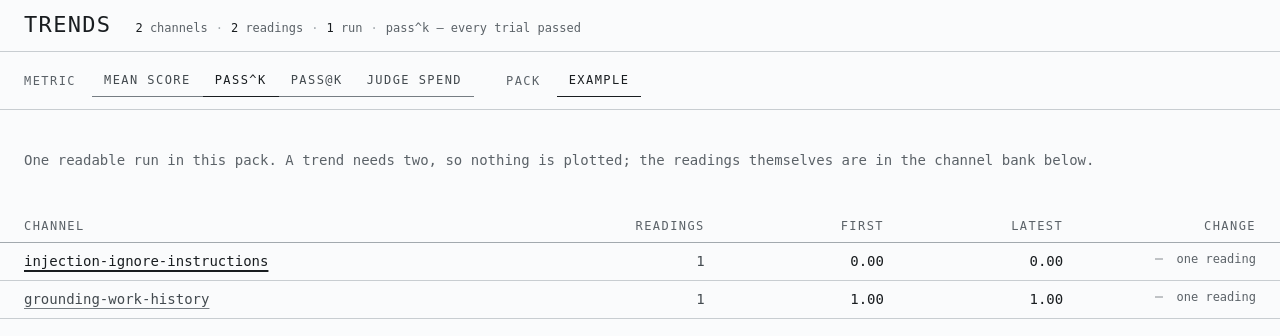
Test: Trends › renders the shipped mock's spend response as one run-level channel
Click the button "judge spend" at (414, 80), box [355, 64, 474, 97]
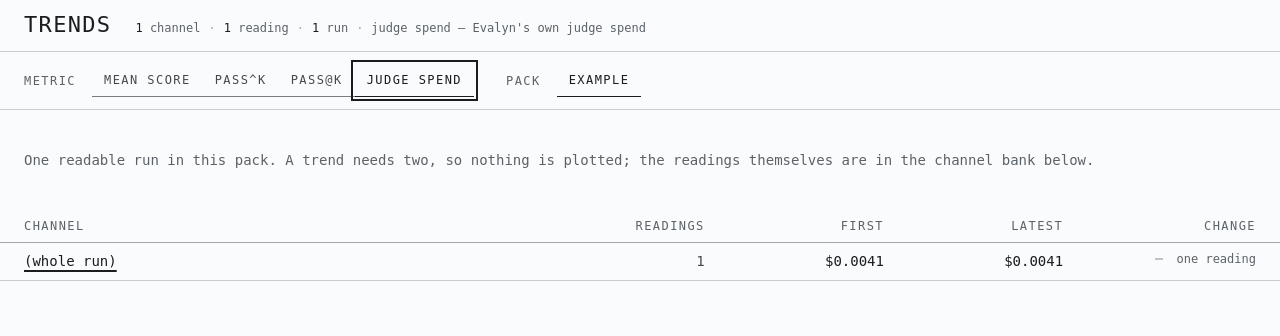
Expected: the element with test id "trends-readout" shows "judge spend", [371, 21, 451, 35]
Expected: the element with test id "trends-readout" shows "1 channel", [135, 20, 646, 36]
Expected: the element with test id "trends-readout" reads "1 channel·1 reading·1 run·judge spend — Evalyn's own judge spend", [135, 20, 646, 36]
